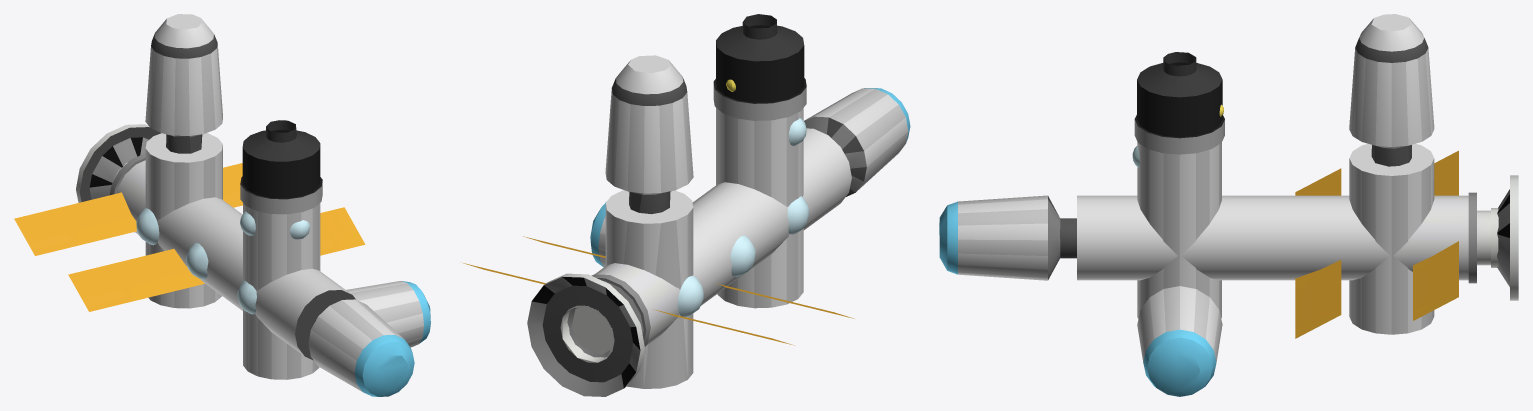
File: Estacao.glb
The picture shows the model from 3 angles, left to right: view 1: azimuth 30°, elevation 25°; view 2: azimuth 150°, elevation 25°; view 3: azimuth 270°, elevation 25°; orthographic projection. The views are drawn at different scales.
Visible parts, largest first — view 1: Estacao; view 2: Estacao; view 3: Estacao.
Boxes of the visible parts, x1,y1,x2,y2 form: Estacao: (14, 14, 430, 396); Estacao: (463, 14, 910, 396); Estacao: (939, 14, 1518, 396).
Bounding box in the file's own units: 8.29 × 8.12 × 13.65.
1 material, 1 textured.
